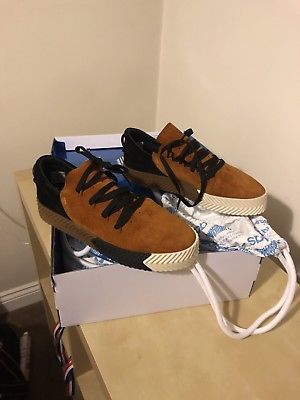adidas AW Skate Sand: (19, 153, 205, 276), (119, 111, 277, 221)
